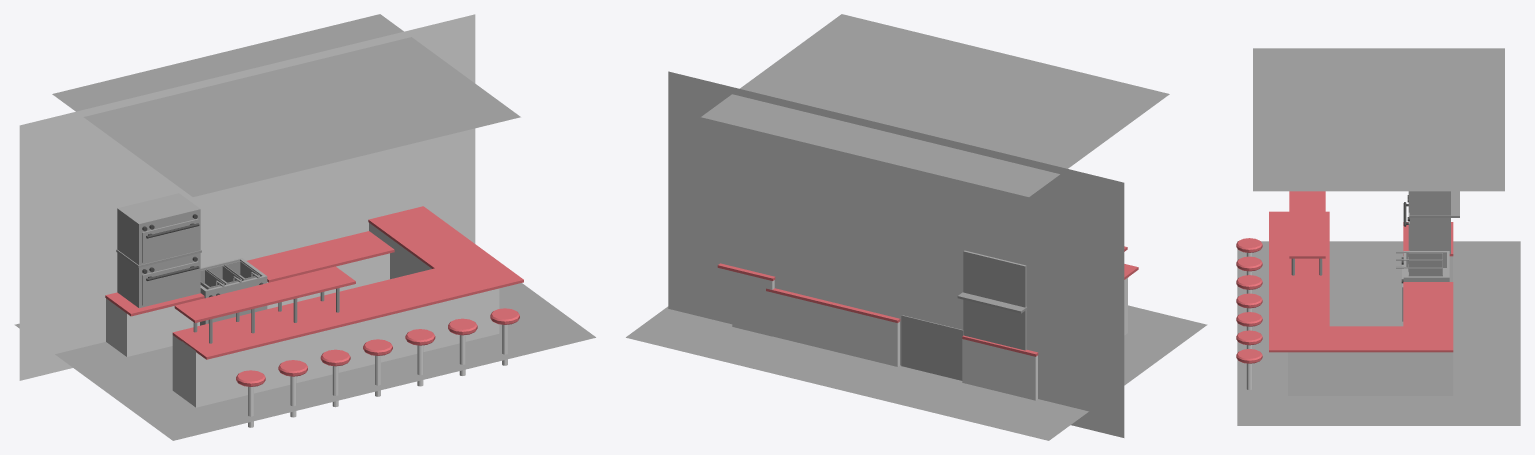
The model's file is Murica Stand UVed.fbx.
3 renders of one model, left to right at view 1: azimuth 30°, elevation 25°; view 2: azimuth 150°, elevation 25°; view 3: azimuth 270°, elevation 25°, orthographic. The views are drawn at different scales.
Parts seen in each view (by area): view 1: pPlane2, pPlane3, pPlane1, pCube2, pCube1, pCube11, pCube21, pCube14, pCube13, pCube6, pCube15, pCube8 (+1 smaller); view 2: pPlane2, pPlane3, pPlane1, pCube15, pCube6, pCube8, pCube11, pCube1, pCube13, pCube14; view 3: pPlane3, pPlane1, pCube2, pCube1, pCube21, pCube14, pCube13, pCube11, pCube8, pCube12, pCube19, pCube18 (+8 smaller).
Boxes of the visible parts, x1=… form: pPlane2: x1=19, y1=14, x2=475, y2=380; pPlane3: x1=52, y1=14, x2=520, y2=196; pPlane1: x1=14, y1=283, x2=595, y2=440; pCube2: x1=172, y1=206, x2=523, y2=359; pCube1: x1=172, y1=223, x2=499, y2=407; pCube11: x1=117, y1=193, x2=200, y2=265; pCube21: x1=174, y1=266, x2=355, y2=322; pCube14: x1=247, y1=231, x2=394, y2=282; pCube13: x1=117, y1=253, x2=200, y2=308; pCube6: x1=106, y1=298, x2=199, y2=356; pCube15: x1=267, y1=253, x2=389, y2=308; pCube8: x1=200, y1=258, x2=267, y2=325; pPlane2: x1=668, y1=71, x2=1124, y2=437; pPlane3: x1=701, y1=14, x2=1169, y2=196; pPlane1: x1=626, y1=305, x2=1207, y2=440; pCube15: x1=772, y1=292, x2=899, y2=366; pCube6: x1=962, y1=339, x2=1037, y2=400; pCube8: x1=901, y1=315, x2=963, y2=380; pCube11: x1=963, y1=250, x2=1026, y2=307; pCube1: x1=732, y1=271, x2=1127, y2=336; pCube13: x1=963, y1=299, x2=1026, y2=350; pCube14: x1=766, y1=288, x2=900, y2=322; pPlane3: x1=1253, y1=48, x2=1504, y2=191; pPlane1: x1=1237, y1=241, x2=1520, y2=425; pCube2: x1=1269, y1=211, x2=1453, y2=352; pCube1: x1=1288, y1=352, x2=1453, y2=395; pCube21: x1=1289, y1=191, x2=1325, y2=258; pCube14: x1=1403, y1=282, x2=1453, y2=326; pCube13: x1=1408, y1=213, x2=1450, y2=253; pCube11: x1=1408, y1=191, x2=1450, y2=215; pCube8: x1=1402, y1=251, x2=1449, y2=321; pCube12: x1=1409, y1=191, x2=1459, y2=217; pCube19: x1=1396, y1=266, x2=1442, y2=276; pCube18: x1=1396, y1=259, x2=1442, y2=268.
Bounding box in the file's own units: 781 × 416 × 470.
